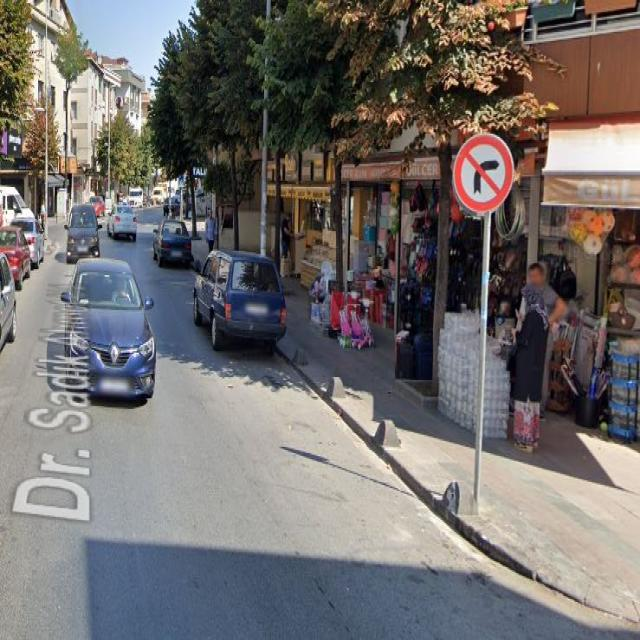sagadonulmez: (454, 134, 514, 213)
